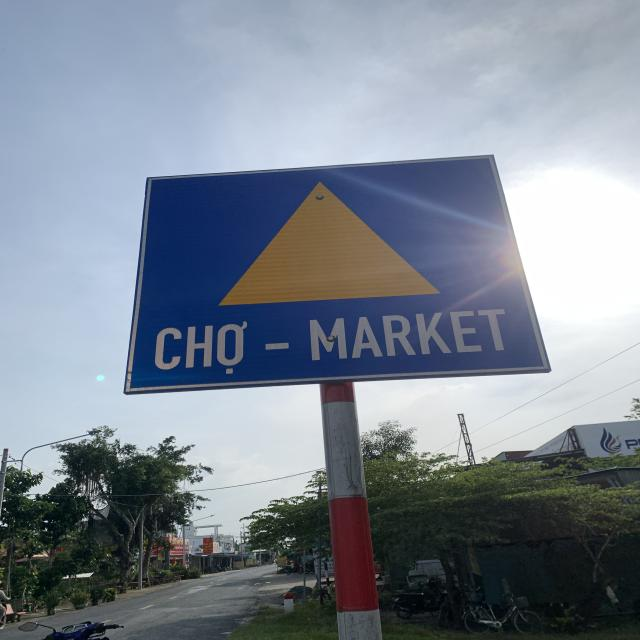Cho_Quay_Xe: (130, 154, 551, 394)
